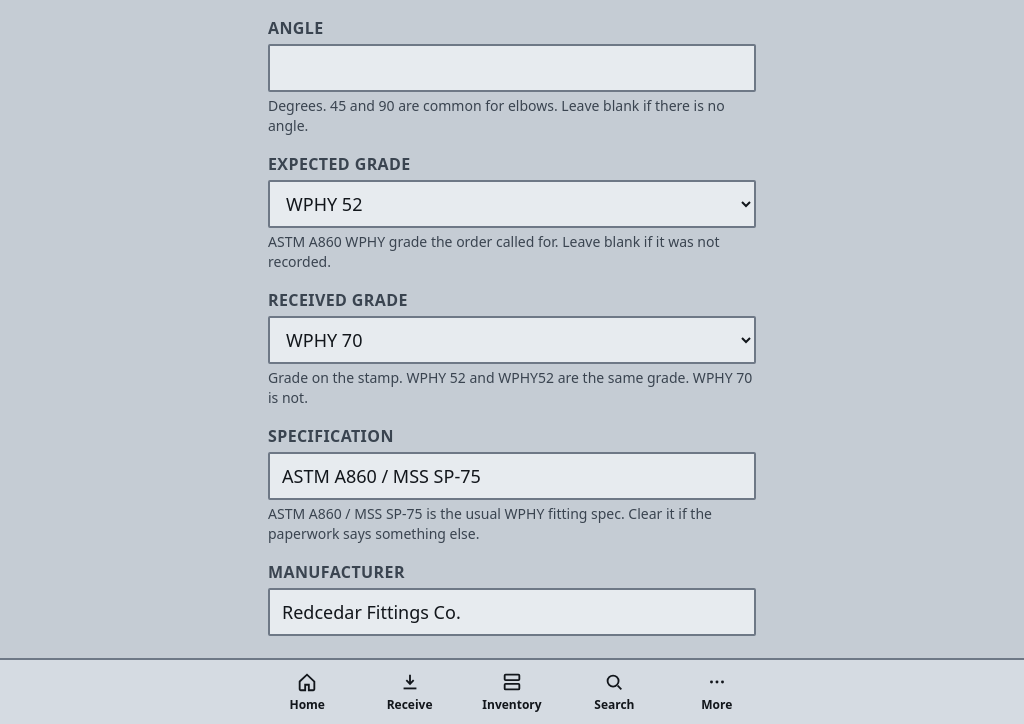
Test: fitting form flags WPHY 52 against WPHY 70 and clears when they match
The width and height of the screenshot is (1024, 724).
(page scrolled)
Select "WPHY 52" in the dropdown labelled "Received grade". click: (512, 340)
box: x1=268 y1=316 x2=756 y2=364
(page scrolled)
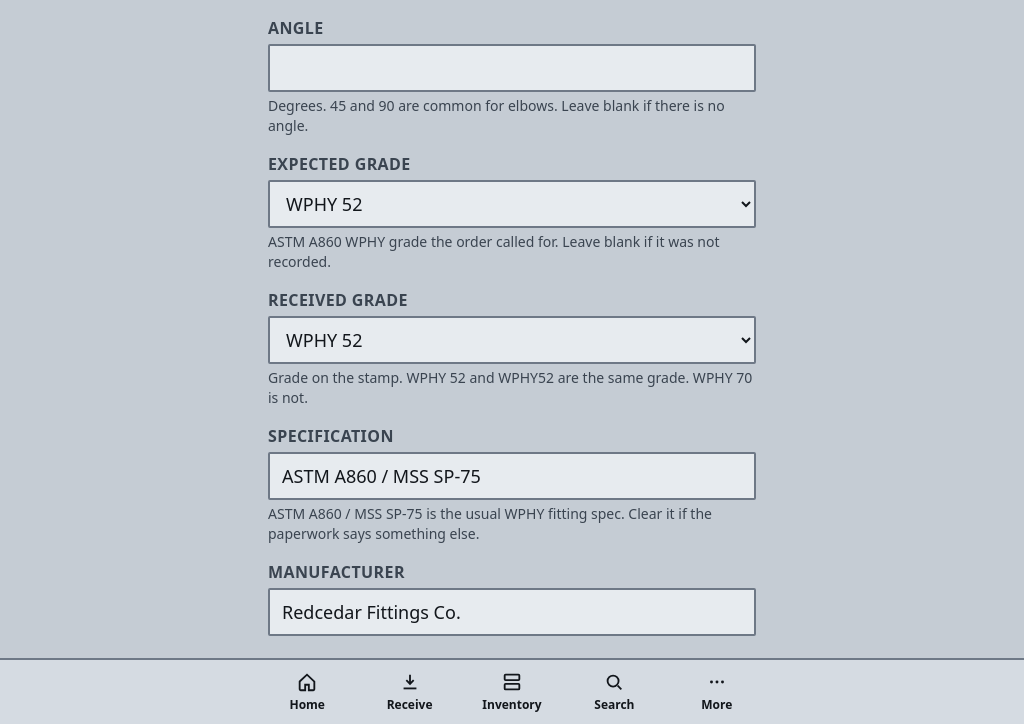
Select "WPHY 70" in the dropdown labelled "Received grade". click: (512, 340)
box: x1=268 y1=316 x2=756 y2=364
(page scrolled)
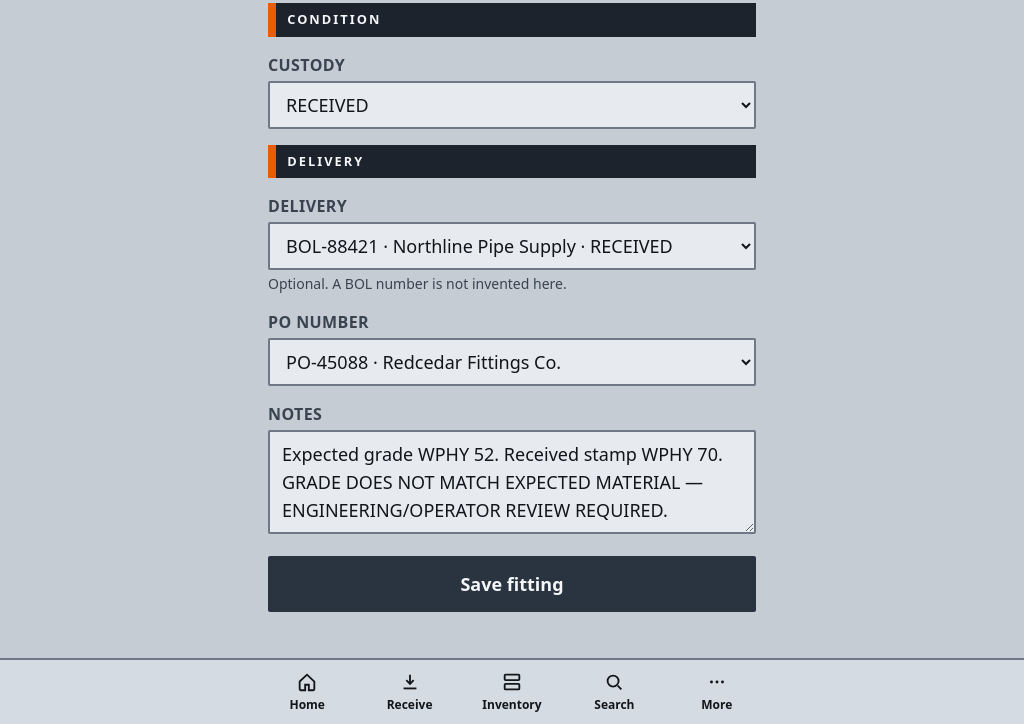
Click the button "Save fitting". click: (512, 584)
box: x1=268 y1=556 x2=756 y2=612
(page scrolled)
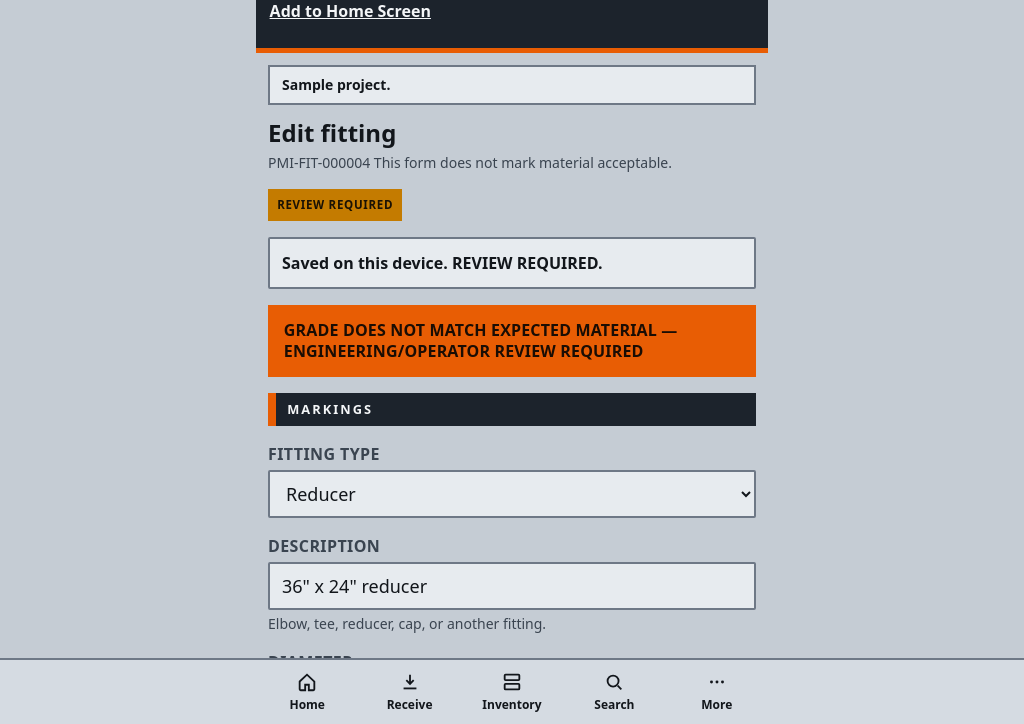
Now the message "GRADE DOES NOT MATCH EXPECTED MATERIAL — ENGINEERING/OPERATOR REVIEW REQUIRED" is shown, box x1=268 y1=305 x2=756 y2=377
Now the text "Saved on this device. REVIEW REQUIRED." is shown, box x1=268 y1=237 x2=756 y2=289
